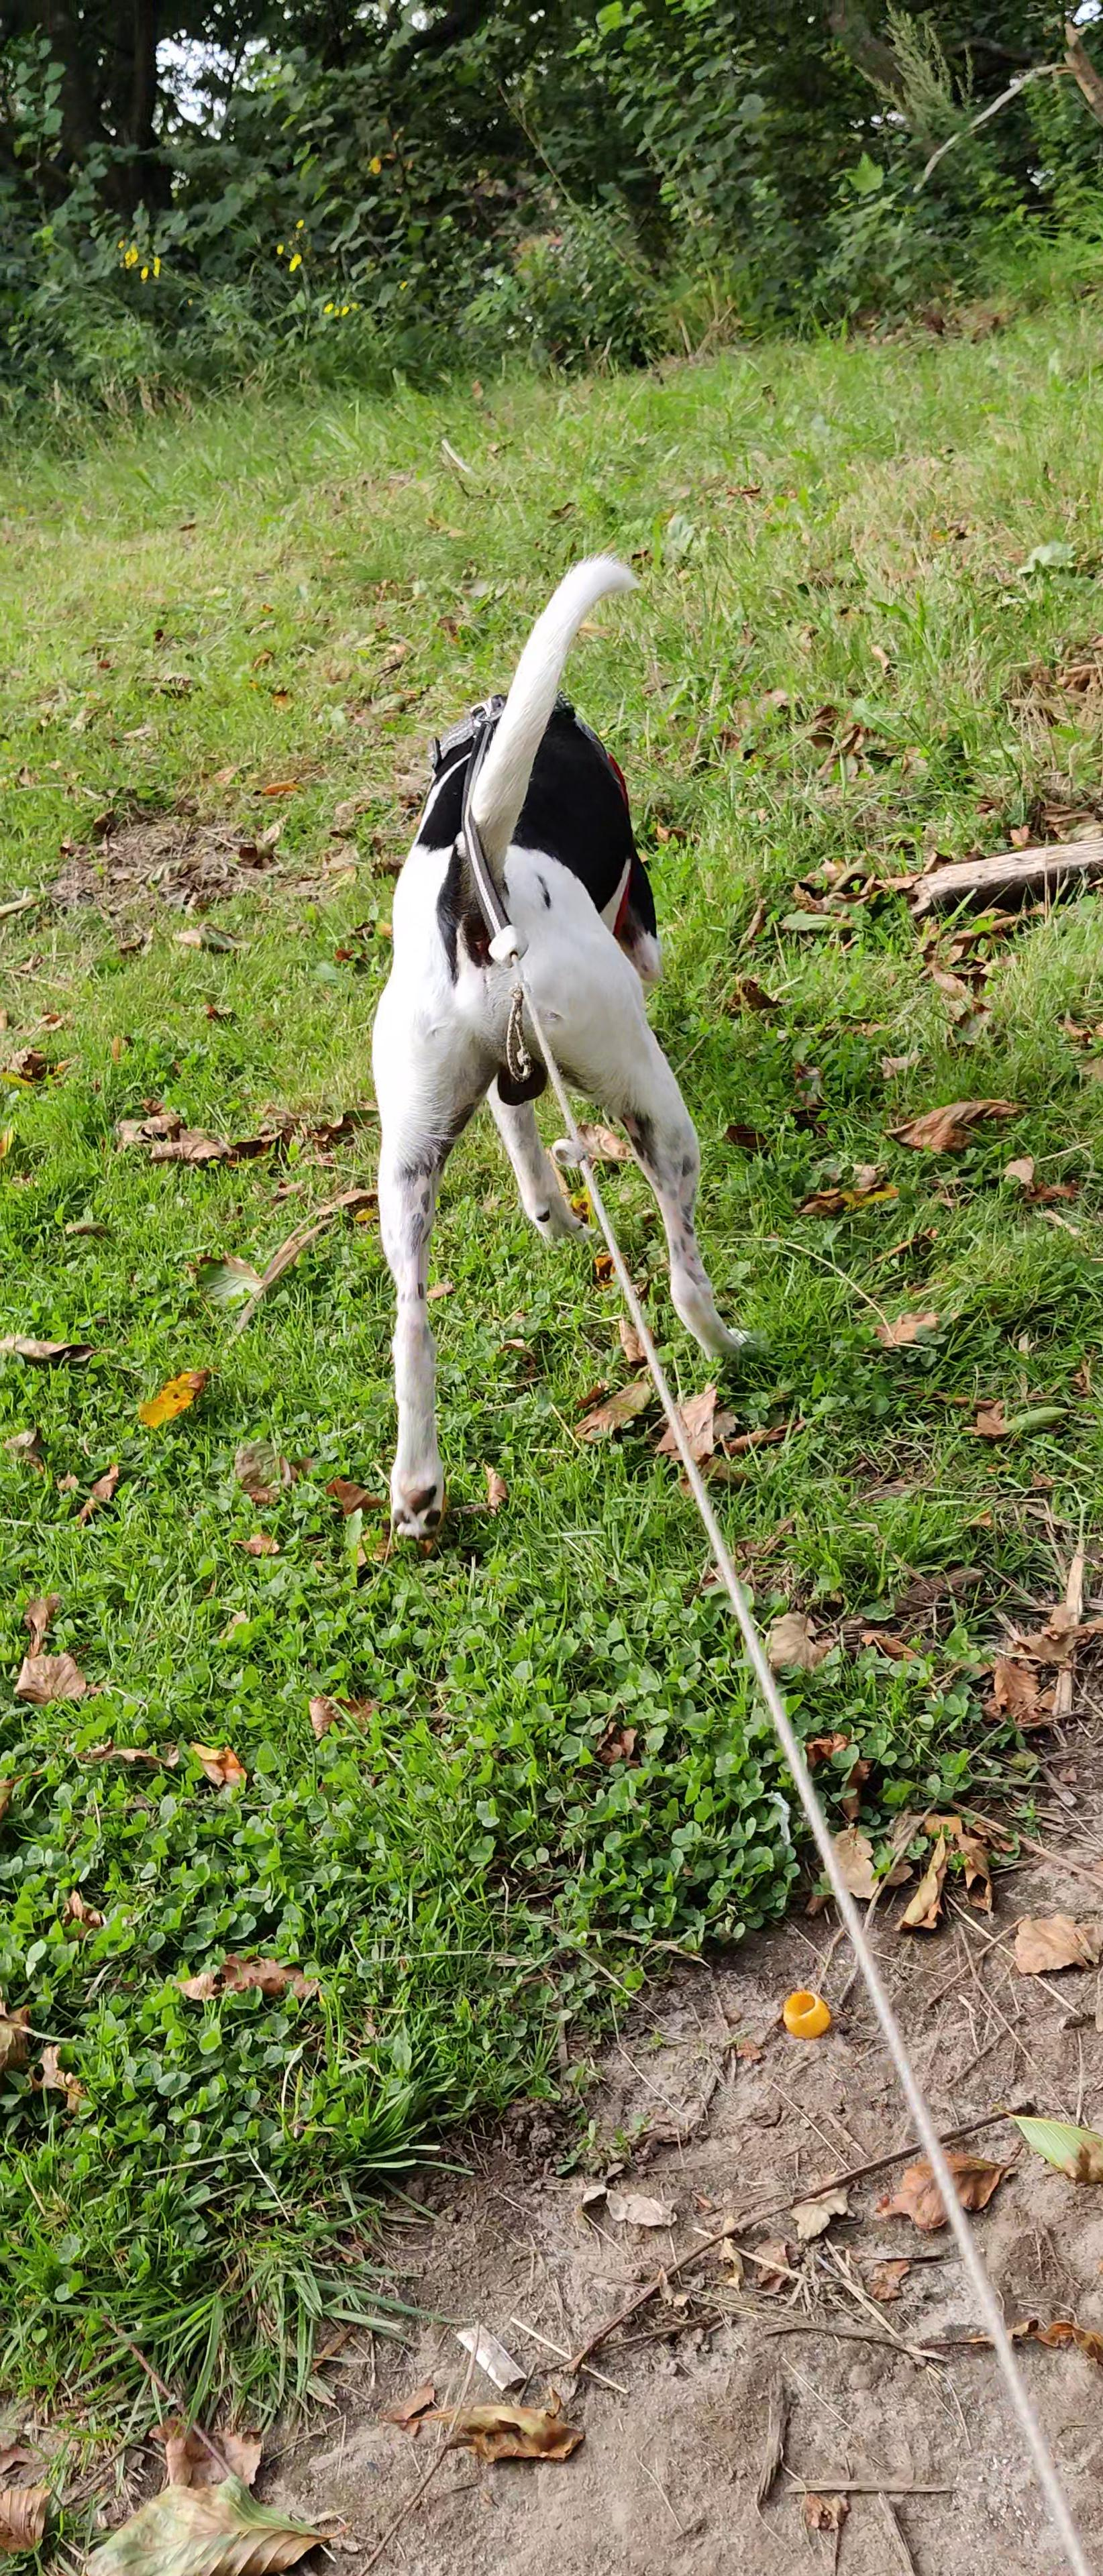Dog: (279, 511, 805, 1600)
